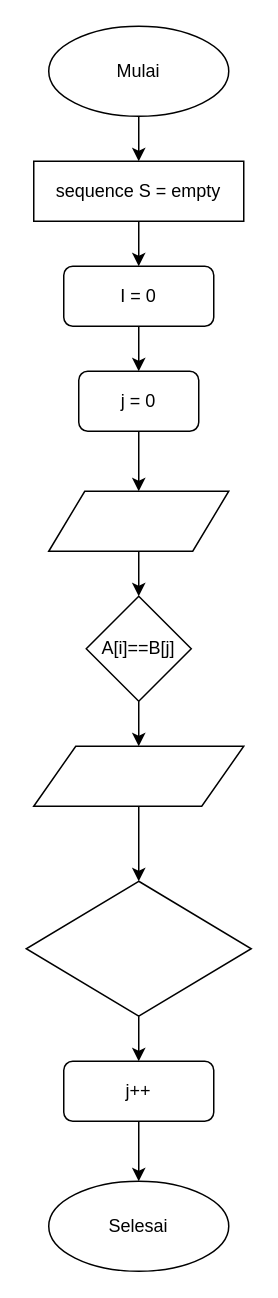
The diagram is 278 pixels wide and 1298 high, and some of its shapes have lost their labels. The centre of each missing label's shape, as x and y in pixels:
add A[i] to end of S: pixel 138 775
L[i]+1,j]>=L[i,j+1])i++: pixel 138 948
While (i<m&&j<n): pixel 138 520
